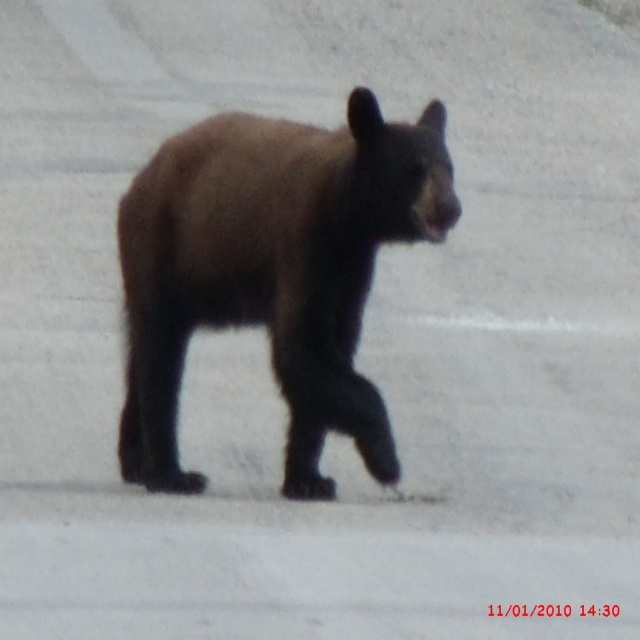Brown bear: (116, 84, 463, 500)
